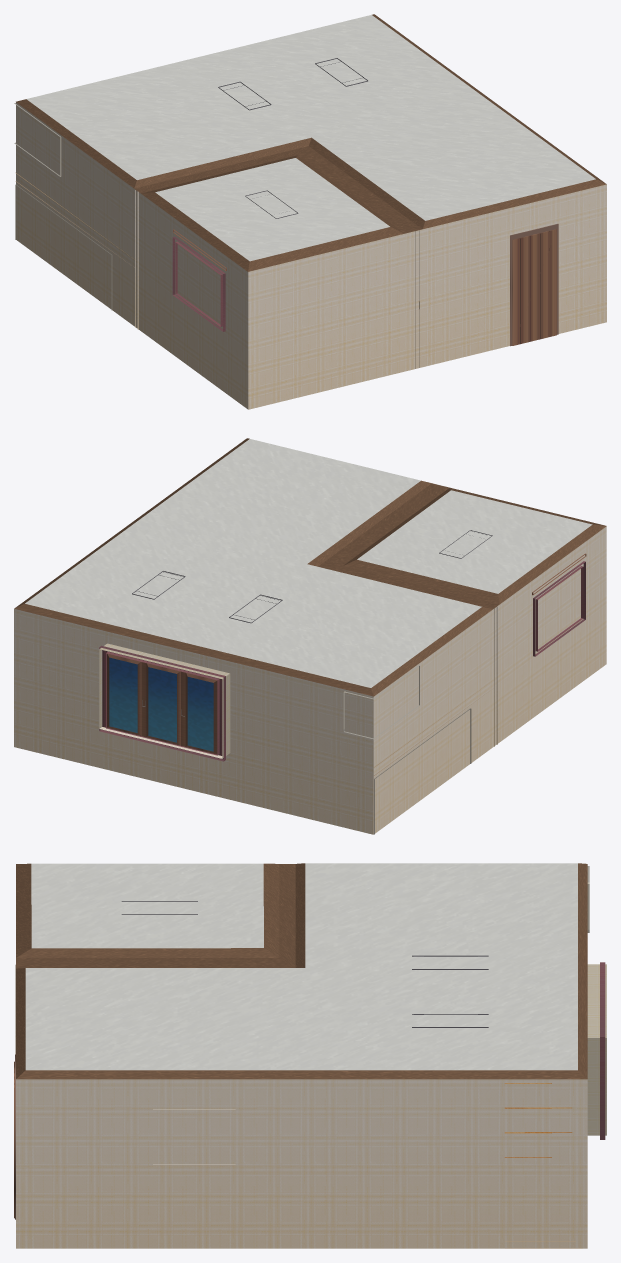
File: room1.FBX
3 views of the same model, one above another, from view 1: azimuth 30°, elevation 25°; view 2: azimuth 150°, elevation 25°; view 3: azimuth 270°, elevation 25° (orthographic). The views are drawn at different scales.
Visible parts, largest first — view 1: room1; view 2: room1; view 3: room1.
Part boxes in pixels (x1=…): room1: x1=14, y1=14, x2=606, y2=409; room1: x1=14, y1=438, x2=606, y2=834; room1: x1=14, y1=863, x2=606, y2=1248.
Bounding box in the file's own units: 977 × 367 × 1126.
